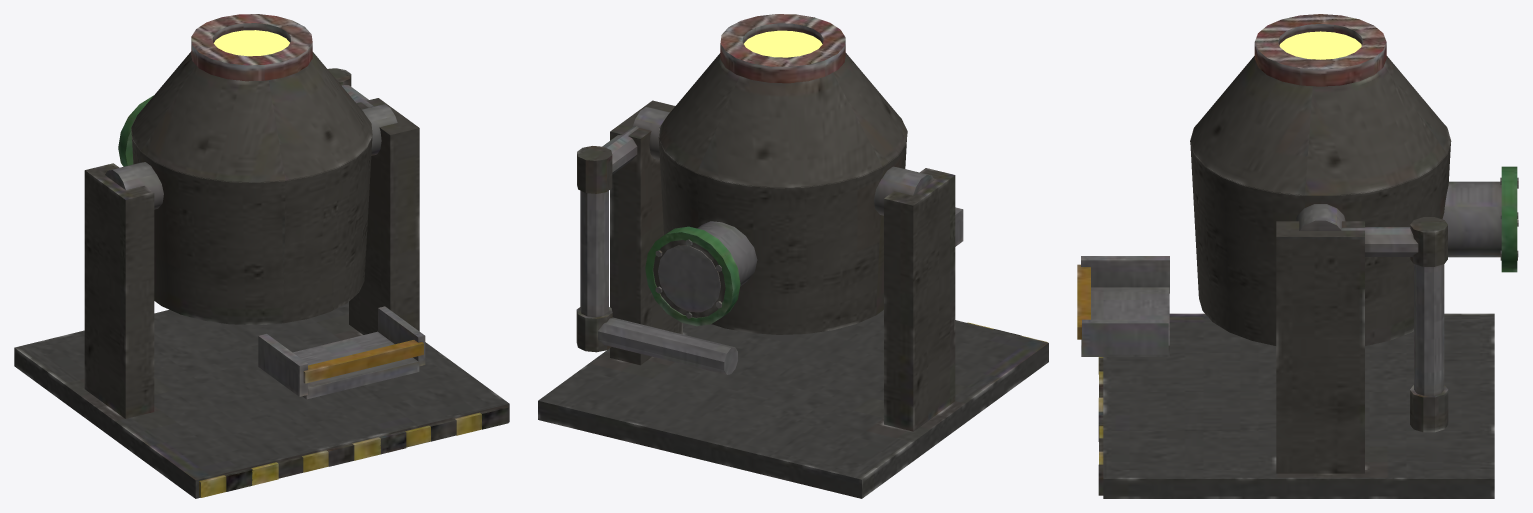
File: feSteelConverter.glb
The picture shows the model from 3 angles, left to right: view 1: azimuth 30°, elevation 25°; view 2: azimuth 150°, elevation 25°; view 3: azimuth 270°, elevation 25°; orthographic projection. The views are drawn at different scales.
Parts seen in each view (by area): view 1: feSteelConverter_Base; view 2: feSteelConverter_Base; view 3: feSteelConverter_Base.
Boxes of the visible parts, <box> form: feSteelConverter_Base: <box>14,14,509,498</box>; feSteelConverter_Base: <box>538,14,1048,498</box>; feSteelConverter_Base: <box>1077,14,1518,498</box>.
Bounding box in the file's own units: 0.9012 × 0.9524 × 1.02.
2 materials, 1 textured.
